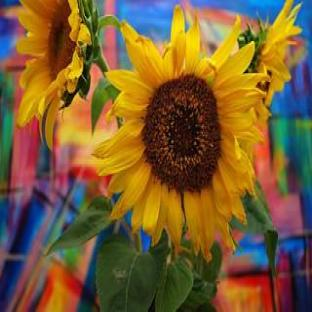sunflower: (92, 6, 268, 262)
